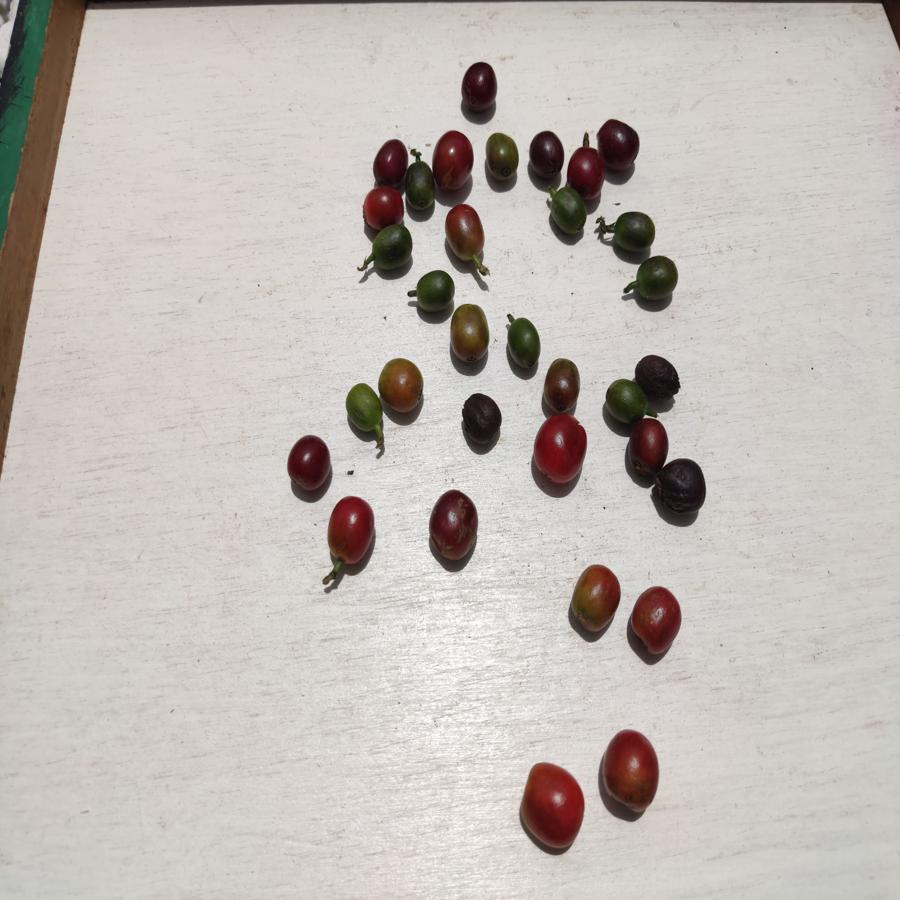Inmaduro: (343, 381, 383, 445), (631, 255, 680, 305), (363, 225, 413, 272), (546, 188, 587, 242), (504, 315, 542, 371), (609, 212, 660, 253), (603, 377, 648, 423), (410, 269, 455, 314), (403, 162, 435, 212)
Maduro: (518, 759, 587, 853), (603, 728, 659, 812), (629, 584, 685, 657), (531, 414, 587, 485), (324, 496, 378, 566), (431, 131, 473, 191), (362, 187, 403, 224)
Pinton: (569, 563, 622, 635), (443, 203, 489, 259), (543, 360, 589, 414), (378, 359, 424, 412), (452, 303, 492, 362), (485, 134, 520, 180)
Sobremaduro: (425, 490, 478, 560), (654, 456, 705, 513), (593, 117, 641, 170), (627, 417, 668, 475), (634, 354, 687, 398), (461, 392, 503, 447), (288, 435, 329, 490), (567, 143, 606, 191), (461, 61, 497, 111), (528, 130, 564, 175), (371, 136, 406, 180)
